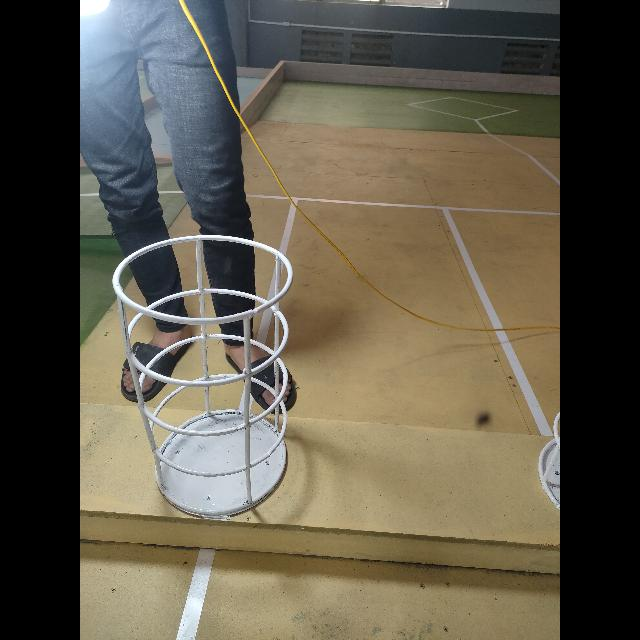S: (110, 234, 300, 519), (535, 407, 560, 517)
